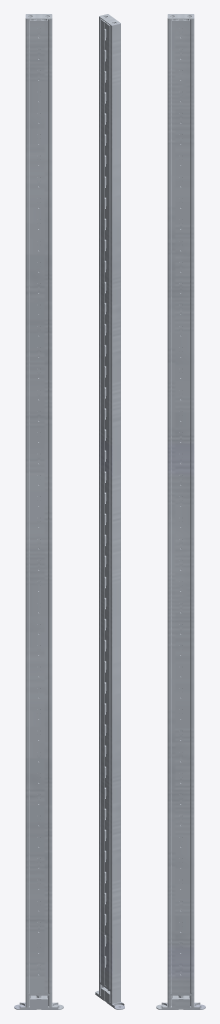
File: JP-POST.glb
3 views of the same model, side by side, from view 1: azimuth 90°, elevation 25°; view 2: azimuth 210°, elevation 25°; view 3: azimuth 270°, elevation 25° (orthographic).
Visible parts, largest first — view 1: Geom3D_组件#2_立柱 copy 002; view 2: Geom3D_组件#2_立柱 copy 002; view 3: Geom3D_组件#2_立柱 copy 002.
Part boxes in pixels (x1=…): Geom3D_组件#2_立柱 copy 002: x1=14, y1=14, x2=63, y2=1009; Geom3D_组件#2_立柱 copy 002: x1=95, y1=14, x2=124, y2=1009; Geom3D_组件#2_立柱 copy 002: x1=156, y1=14, x2=205, y2=1009.
Bounding box in the file's own units: 0.025 × 2.46 × 0.112.
1 material, 1 textured.
